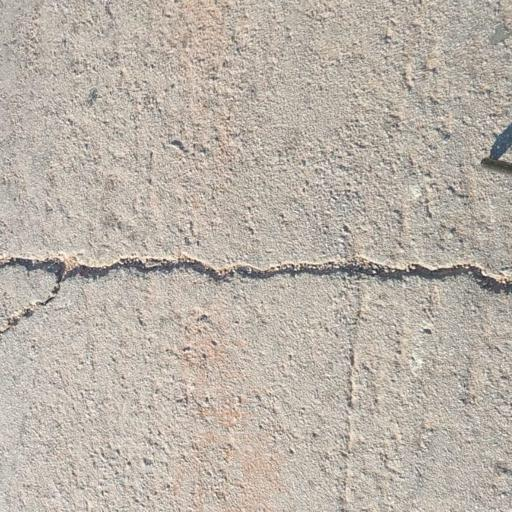GRIETA: (0, 255, 511, 293), (340, 290, 364, 511), (0, 283, 61, 340)
